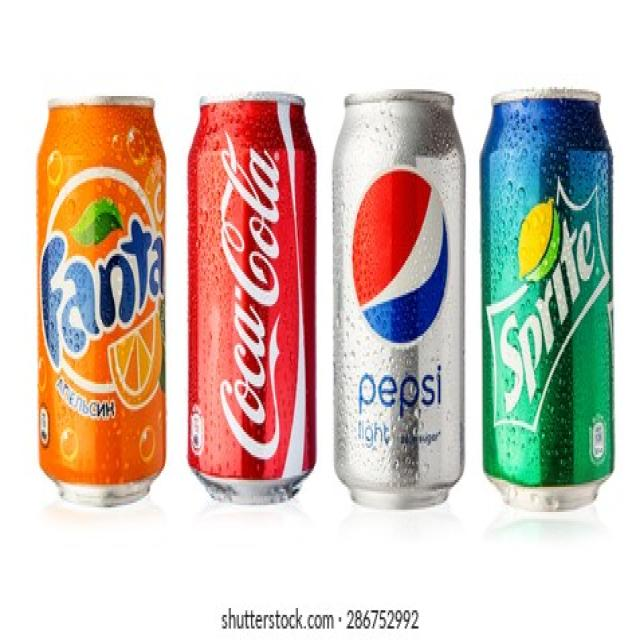cocacola: (182, 89, 326, 517)
sprite: (482, 85, 614, 523)
